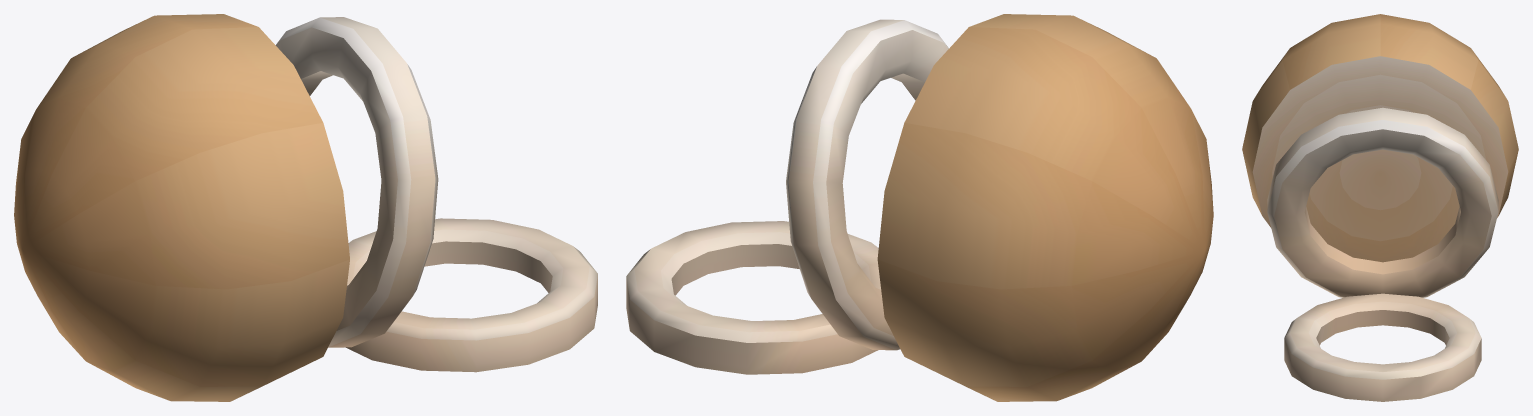
The model's file is kaykit-restaurant-bits-food-ingredient-onion-chopped.glb.
3 views of the same model, side by side, from view 1: azimuth 30°, elevation 25°; view 2: azimuth 150°, elevation 25°; view 3: azimuth 270°, elevation 25° (orthographic). The views are drawn at different scales.
Visible parts, largest first — view 1: food_ingredient_onion_chopped; view 2: food_ingredient_onion_chopped; view 3: food_ingredient_onion_chopped.
Boxes of the visible parts, left/top/right/bottom form: food_ingredient_onion_chopped: left=14, top=14, right=597, bottom=401; food_ingredient_onion_chopped: left=626, top=14, right=1213, bottom=401; food_ingredient_onion_chopped: left=1242, top=14, right=1518, bottom=401.
Bounding box in the file's own units: 1.23 × 0.75 × 0.75.
Materials: 1 (1 with a texture image).
